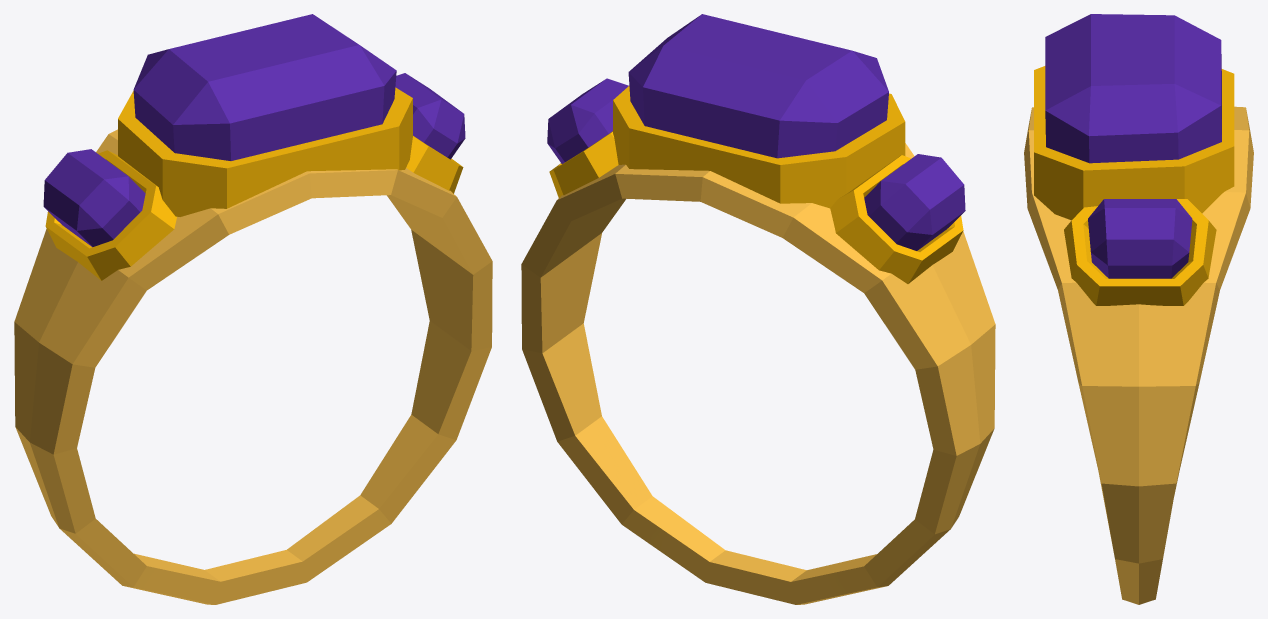
The model's file is PurpleRing.fbx.
3 views of the same model, side by side, from view 1: azimuth 30°, elevation 25°; view 2: azimuth 150°, elevation 25°; view 3: azimuth 270°, elevation 25° (orthographic). The views are drawn at different scales.
Visible parts, largest first — view 1: Ring5; view 2: Ring5; view 3: Ring5.
Boxes of the visible parts, x1,y1,x2,y2 form: Ring5: (14,14,492,604); Ring5: (521,14,995,604); Ring5: (1024,14,1253,604).
Size of the model in its own units: 0.6619 by 0.7723 by 0.3013.
